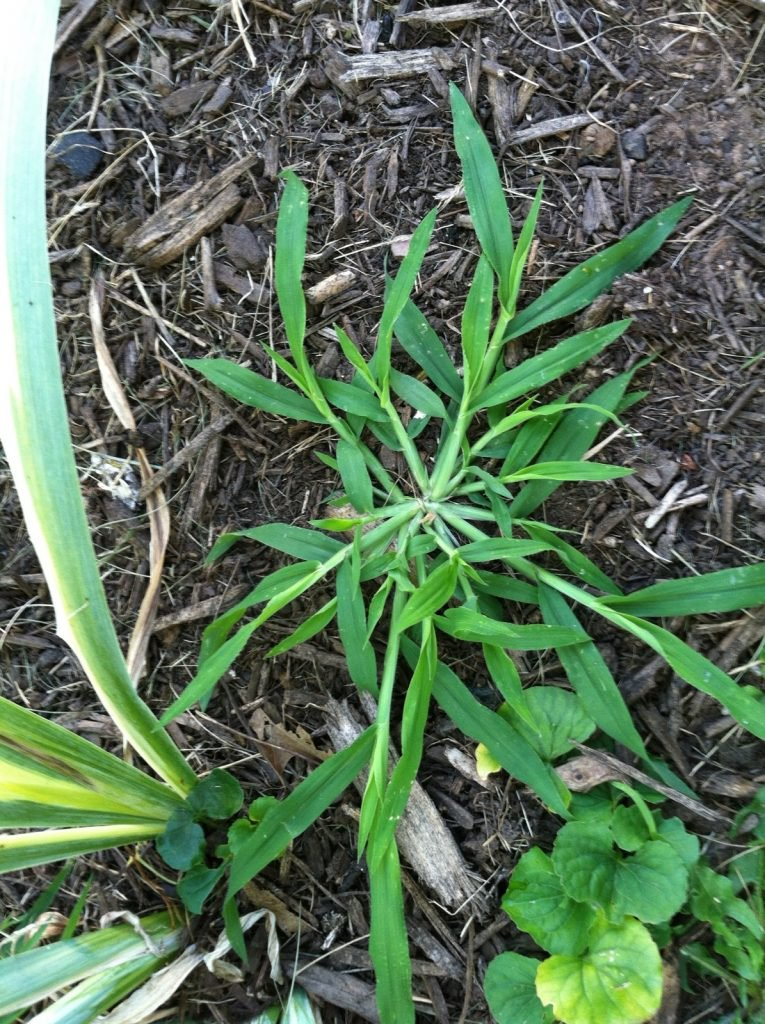crabgrass: (176, 213, 712, 831)
